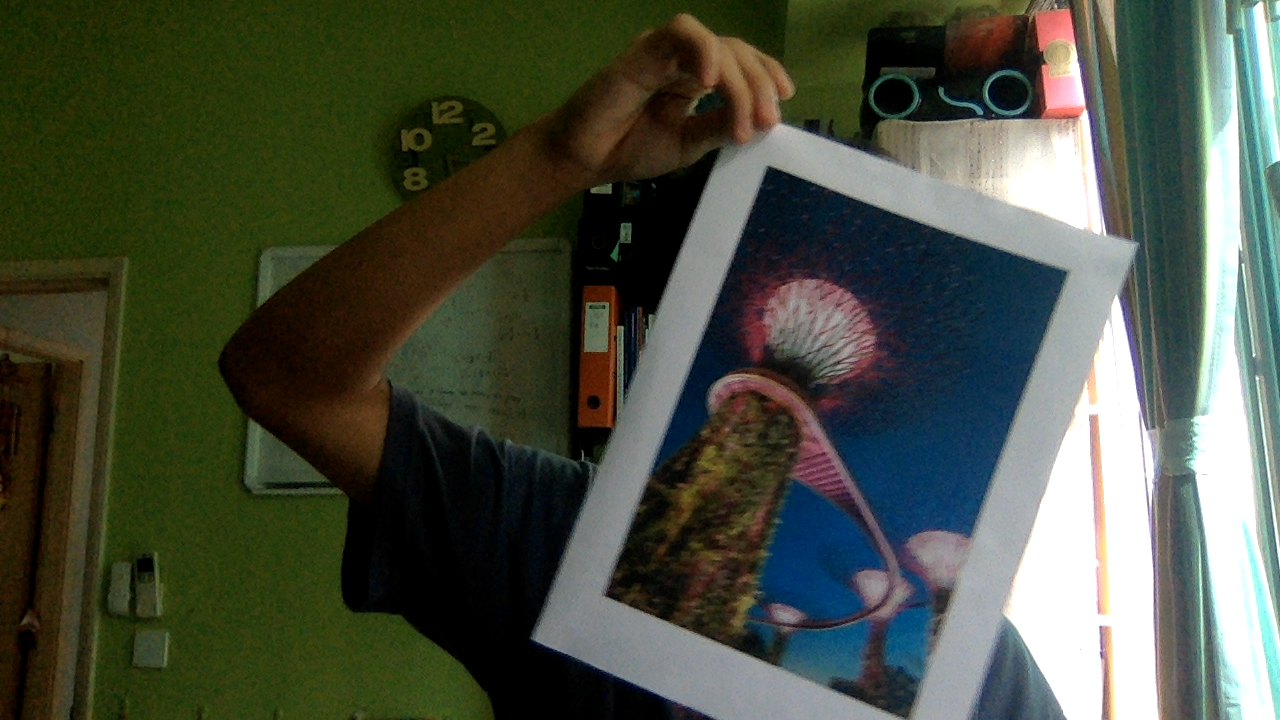GBTB: (602, 165, 1067, 719)
